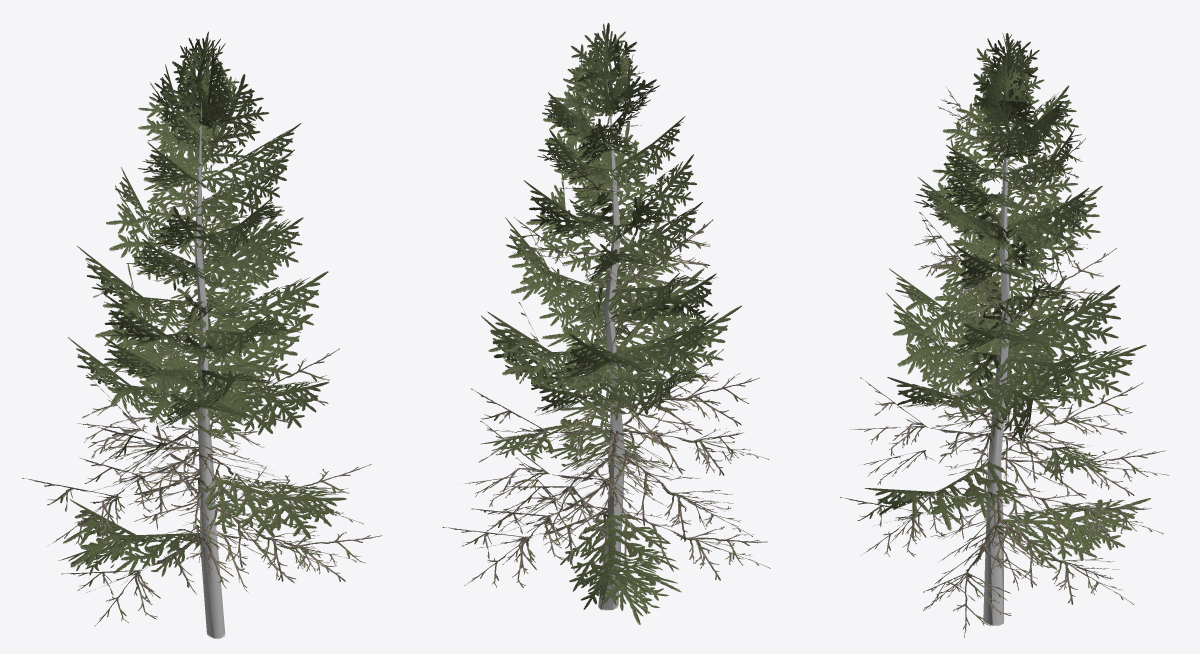
Rendered from fir06_30.dae.
The picture shows the model from 3 angles, left to right: view 1: azimuth 30°, elevation 25°; view 2: azimuth 150°, elevation 25°; view 3: azimuth 270°, elevation 25°; orthographic projection.
Visible parts, largest first — view 1: fir06_30; view 2: fir06_30; view 3: fir06_30.
Boxes of the visible parts, bbox=[...] form: fir06_30: bbox=[22, 31, 381, 638]; fir06_30: bbox=[442, 23, 770, 624]; fir06_30: bbox=[840, 33, 1168, 637].
Size of the model in its own units: 70.27 by 66.12 by 121.
